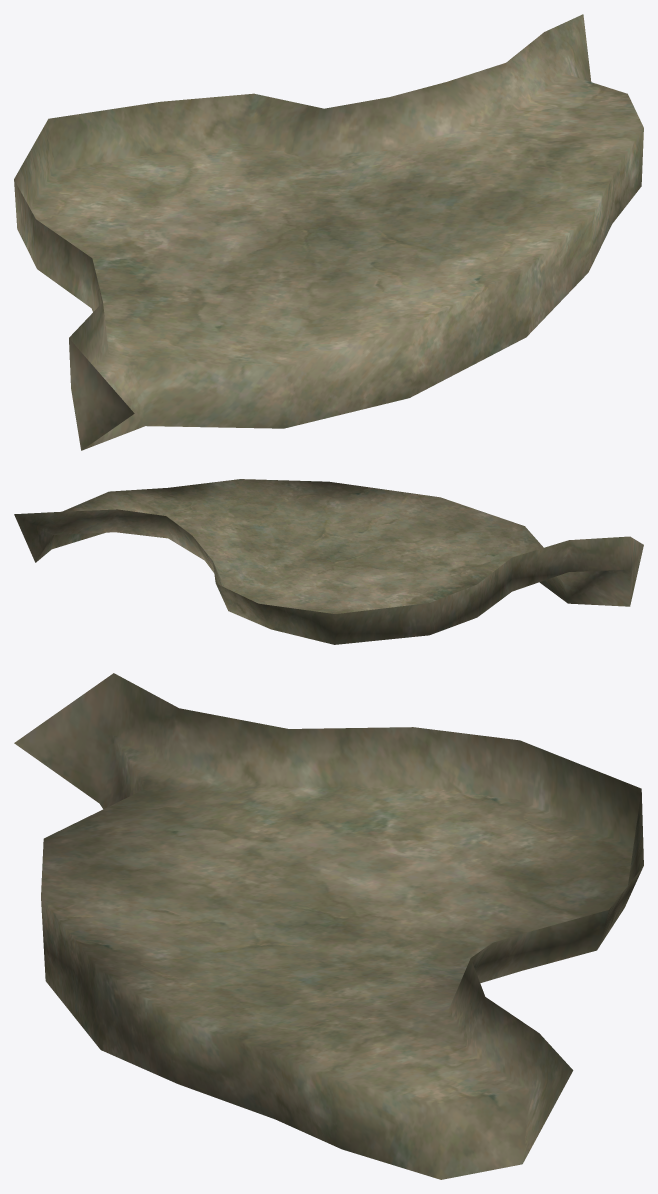
File: EKH_CAVERNS_PS_CA_FLOOR_200.fbx
The picture shows the model from 3 angles, top to bottom: view 1: azimuth 30°, elevation 25°; view 2: azimuth 150°, elevation 25°; view 3: azimuth 270°, elevation 25°; orthographic projection. The views are drawn at different scales.
Parts seen in each view (by area): view 1: EKH_CAVERNS_PS_CA_FLOOR_200; view 2: EKH_CAVERNS_PS_CA_FLOOR_200; view 3: EKH_CAVERNS_PS_CA_FLOOR_200.
Part boxes in pixels (<box>): EKH_CAVERNS_PS_CA_FLOOR_200: <box>14,14,643,450</box>; EKH_CAVERNS_PS_CA_FLOOR_200: <box>14,479,643,644</box>; EKH_CAVERNS_PS_CA_FLOOR_200: <box>14,673,643,1179</box>.
Size of the model in its own units: 81816 by 14124 by 54035.
1 material, 1 textured.
